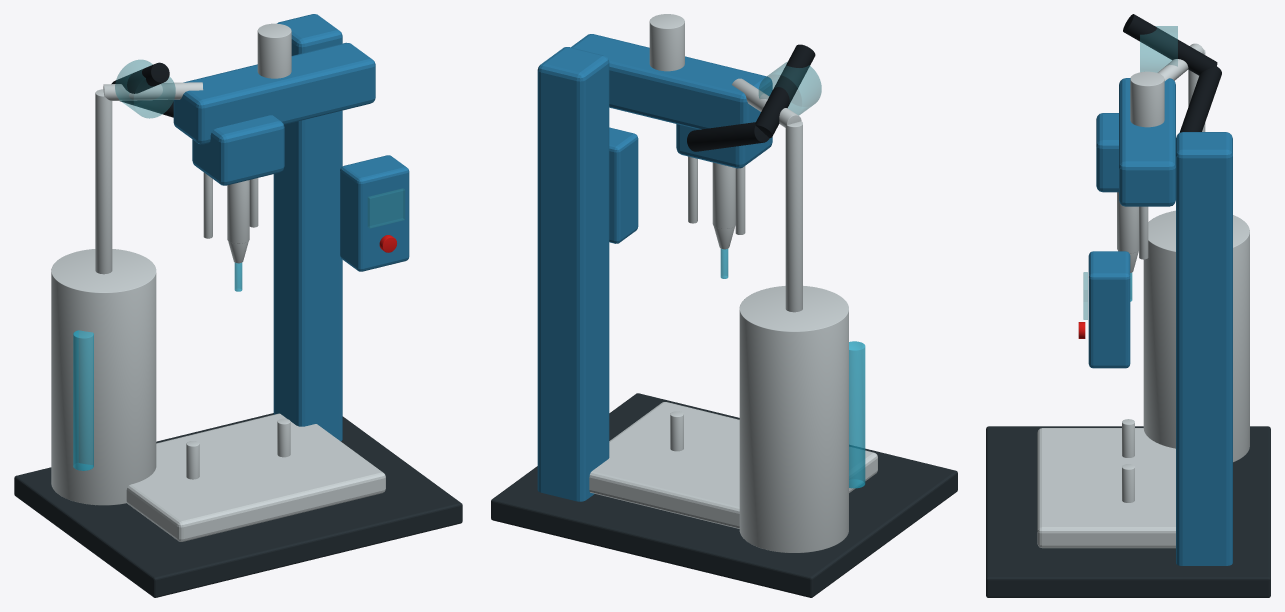
Rendered from fill_nozzle.glb.
The picture shows the model from 3 angles, left to right: view 1: azimuth 30°, elevation 25°; view 2: azimuth 150°, elevation 25°; view 3: azimuth 270°, elevation 25°; orthographic projection. The views are drawn at different scales.
Visible parts, largest first — view 1: SUPPLY_RESERVOIR, FILLER_BASE, FILLER_COLUMN, DRIP_TRAY, NOZZLE_BOOM, FILLER_CONTROL_PANEL, DOSING_VALVE_BLOCK, SUPPLY_PIPE_RISER, SUPPLY_SIGHT_GLASS, FLOW_METER, PRODUCT_INLET, KIN_fill_nozzle (+4 smaller); view 2: FILLER_COLUMN, SUPPLY_RESERVOIR, FILLER_BASE, DRIP_TRAY, NOZZLE_BOOM, SUPPLY_PIPE_RISER, FILLER_CONTROL_PANEL, SUPPLY_SIGHT_GLASS, PRODUCT_HOSE, PRODUCT_INLET, FLOW_METER, PRODUCT_HOSE_DROP (+5 smaller); view 3: FILLER_COLUMN, FILLER_BASE, DRIP_TRAY, SUPPLY_RESERVOIR, NOZZLE_BOOM, FILLER_CONTROL_PANEL, PRODUCT_HOSE, PRODUCT_INLET, DOSING_VALVE_BLOCK, FLOW_METER, PRODUCT_HOSE_DROP, KIN_fill_nozzle (+4 smaller).
Boxes of the visible parts, x1,y1,x2,y2 form: SUPPLY_RESERVOIR: (51,249,156,505); FILLER_BASE: (14,413,462,597); FILLER_COLUMN: (273,14,342,441); DRIP_TRAY: (126,413,385,541); NOZZLE_BOOM: (173,42,375,144); FILLER_CONTROL_PANEL: (340,155,409,271); DOSING_VALVE_BLOCK: (192,115,284,185); SUPPLY_PIPE_RISER: (95,89,112,274); SUPPLY_SIGHT_GLASS: (73,330,93,470); FLOW_METER: (115,59,175,118); PRODUCT_INLET: (257,23,291,78); KIN_fill_nozzle: (227,180,249,243); FILLER_COLUMN: (537,47,609,501); SUPPLY_RESERVOIR: (739,286,848,552); FILLER_BASE: (491,393,957,597); DRIP_TRAY: (589,402,877,528); NOZZLE_BOOM: (571,34,772,129); SUPPLY_PIPE_RISER: (785,121,802,312); FILLER_CONTROL_PANEL: (609,127,638,243); SUPPLY_SIGHT_GLASS: (849,341,865,488); PRODUCT_HOSE: (755,44,815,138); PRODUCT_INLET: (649,14,684,71); FLOW_METER: (758,61,821,115); PRODUCT_HOSE_DROP: (687,122,769,151); FILLER_COLUMN: (1176,132,1232,565); FILLER_BASE: (986,426,1270,597); DRIP_TRAY: (1037,428,1175,548); SUPPLY_RESERVOIR: (1143,210,1249,462); NOZZLE_BOOM: (1119,78,1175,206); FILLER_CONTROL_PANEL: (1088,251,1130,368); PRODUCT_HOSE: (1123,14,1217,75); PRODUCT_INLET: (1130,71,1164,127); DOSING_VALVE_BLOCK: (1096,113,1118,192); FLOW_METER: (1140,26,1177,72); PRODUCT_HOSE_DROP: (1179,66,1221,132); KIN_fill_nozzle: (1117,192,1138,253).
Size of the model in its own units: 1.9 by 2.73 by 1.5.
